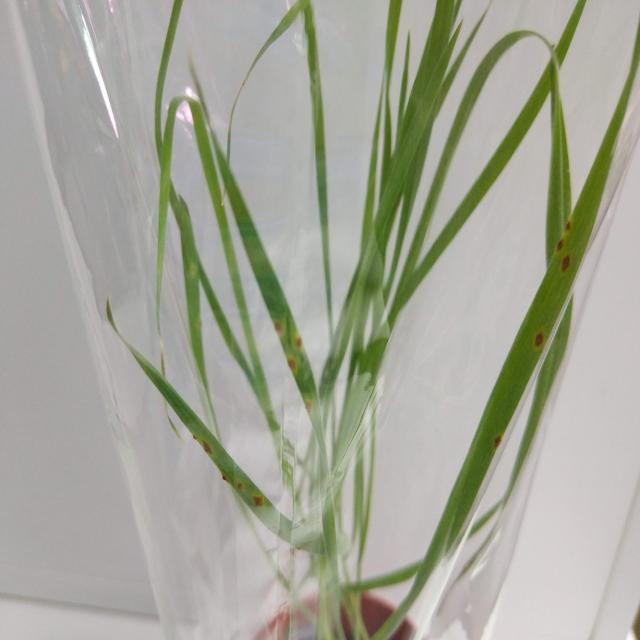wheat-stemrust: (469, 194, 595, 464)
